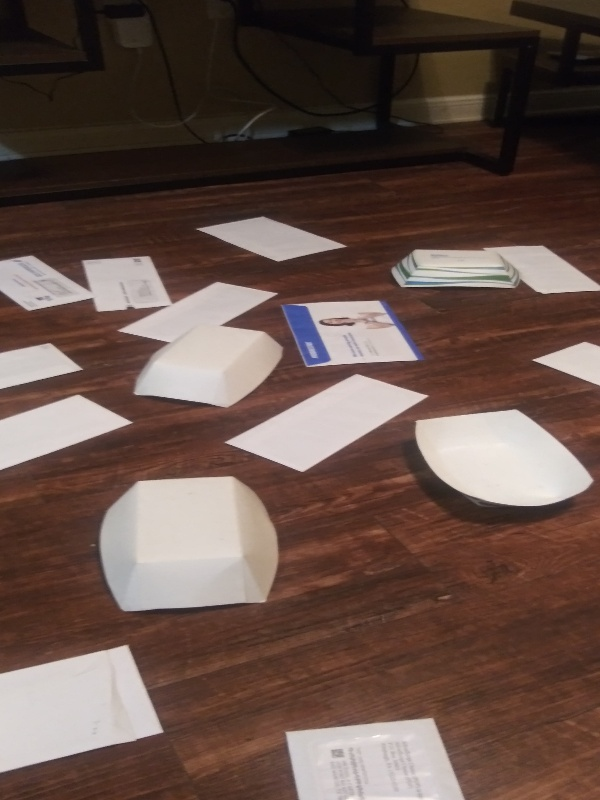plate: (94, 474, 282, 617), (409, 409, 600, 516), (130, 324, 287, 415), (386, 246, 524, 294)
